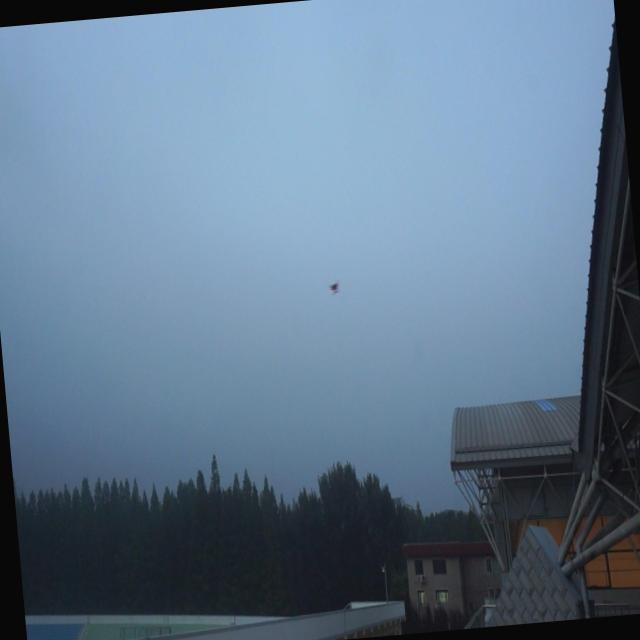drone: (330, 277, 340, 297)
